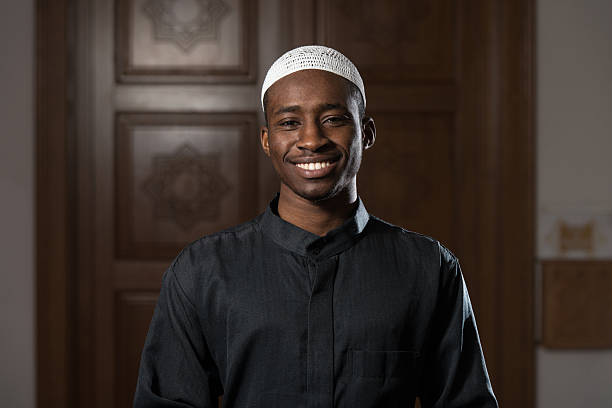person: (255, 42, 378, 205)
